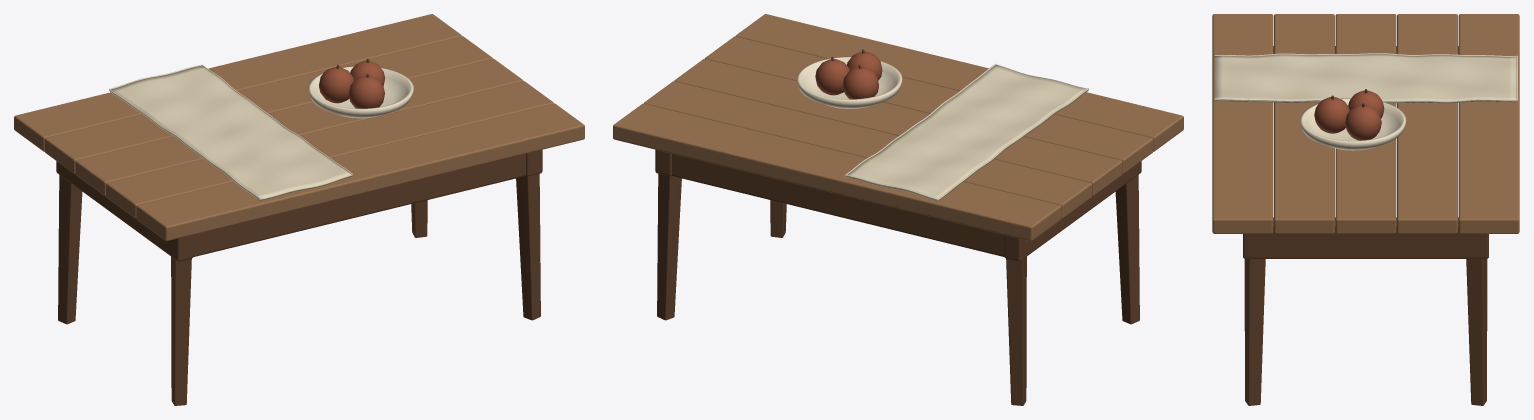
The model's file is dining-table.glb.
3 renders of one model, left to right at view 1: azimuth 30°, elevation 25°; view 2: azimuth 150°, elevation 25°; view 3: azimuth 270°, elevation 25°, orthographic.
Parts seen in each view (by area): view 1: dining-table__wood_oak, dining-table__wood_walnut, dining-table__fabric_linen, dining-table__fabric_terracotta, dining-table__ceramic_ivory; view 2: dining-table__wood_oak, dining-table__wood_walnut, dining-table__fabric_linen, dining-table__fabric_terracotta, dining-table__ceramic_ivory; view 3: dining-table__wood_oak, dining-table__fabric_linen, dining-table__wood_walnut, dining-table__fabric_terracotta, dining-table__ceramic_ivory.
Boxes of the visible parts, left/top/right/bottom form: dining-table__wood_oak: left=14, top=14, right=584, bottom=241; dining-table__wood_walnut: left=56, top=58, right=542, bottom=405; dining-table__fabric_linen: left=109, top=64, right=353, bottom=200; dining-table__fabric_terracotta: left=319, top=60, right=384, bottom=108; dining-table__ceramic_ivory: left=308, top=66, right=413, bottom=118; dining-table__wood_oak: left=613, top=14, right=1183, bottom=241; dining-table__wood_walnut: left=655, top=49, right=1141, bottom=405; dining-table__fabric_linen: left=844, top=63, right=1088, bottom=201; dining-table__fabric_terracotta: left=815, top=51, right=882, bottom=99; dining-table__ceramic_ivory: left=797, top=56, right=902, bottom=108; dining-table__wood_oak: left=1212, top=14, right=1519, bottom=233; dining-table__fabric_linen: left=1214, top=53, right=1517, bottom=103; dining-table__wood_walnut: left=1243, top=46, right=1488, bottom=405; dining-table__fabric_terracotta: left=1314, top=90, right=1384, bottom=140; dining-table__ceramic_ivory: left=1300, top=98, right=1406, bottom=150.
Size of the model in its own units: 1.9 by 1.06 by 1.2.
